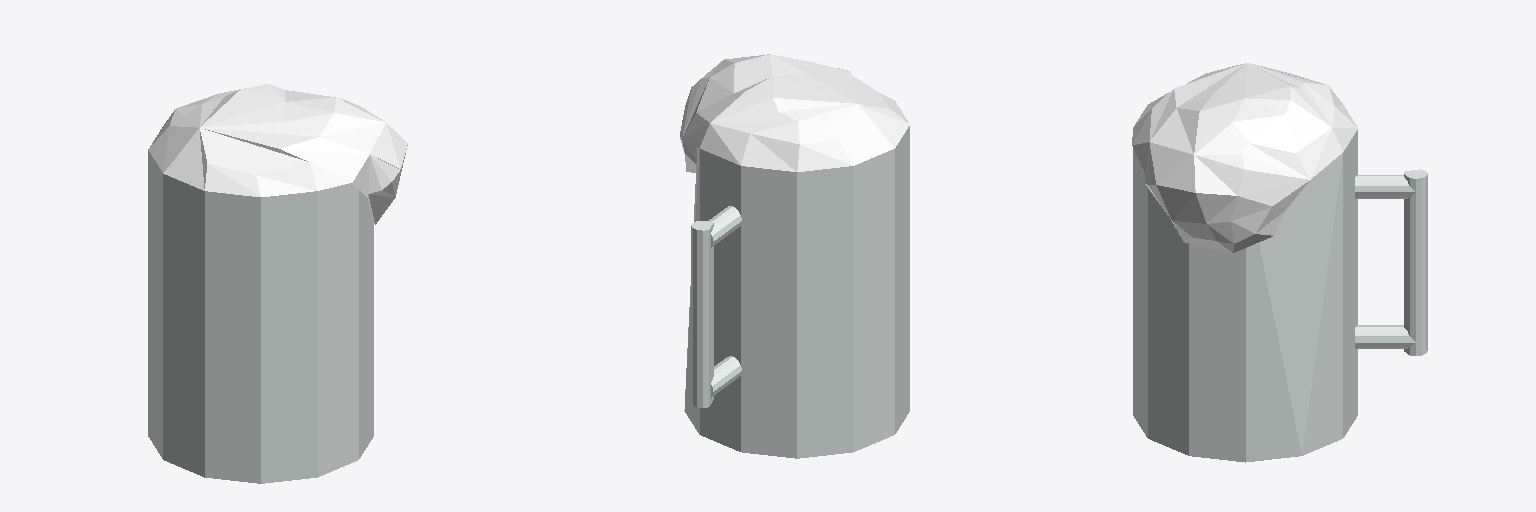
The model's file is Beer.obj.
The picture shows the model from 3 angles: view 1: azimuth 30°, elevation 25°; view 2: azimuth 150°, elevation 25°; view 3: azimuth 270°, elevation 25°; orthographic projection.
Visible parts, largest first — view 1: group[number redacted], group[number redacted]; view 2: group[number redacted], group[number redacted], group[number redacted], group[number redacted], group[number redacted]; view 3: group[number redacted], group[number redacted], group[number redacted], group[number redacted], group[number redacted].
Part boxes in pixels (left/top/right/bottom): group[number redacted]: left=148, top=150, right=373, bottom=483; group[number redacted]: left=148, top=84, right=407, bottom=224; group[number redacted]: left=684, top=126, right=909, bottom=458; group[number redacted]: left=680, top=54, right=909, bottom=172; group[number redacted]: left=691, top=221, right=713, bottom=407; group[number redacted]: left=709, top=206, right=741, bottom=247; group[number redacted]: left=711, top=356, right=741, bottom=397; group[number redacted]: left=1133, top=130, right=1357, bottom=462; group[number redacted]: left=1132, top=63, right=1357, bottom=252; group[number redacted]: left=1404, top=169, right=1427, bottom=355; group[number redacted]: left=1355, top=175, right=1415, bottom=198; group[number redacted]: left=1355, top=325, right=1415, bottom=348.
Size of the model in its own units: 0.1686 by 0.2415 by 0.1963.